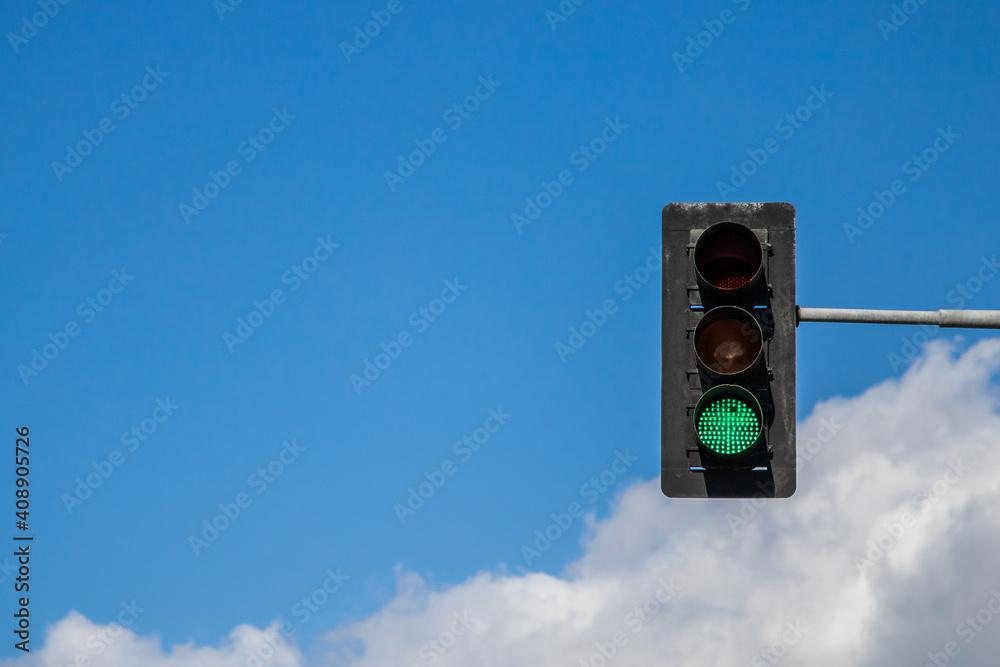Traffic light green: (667, 198, 790, 500)
